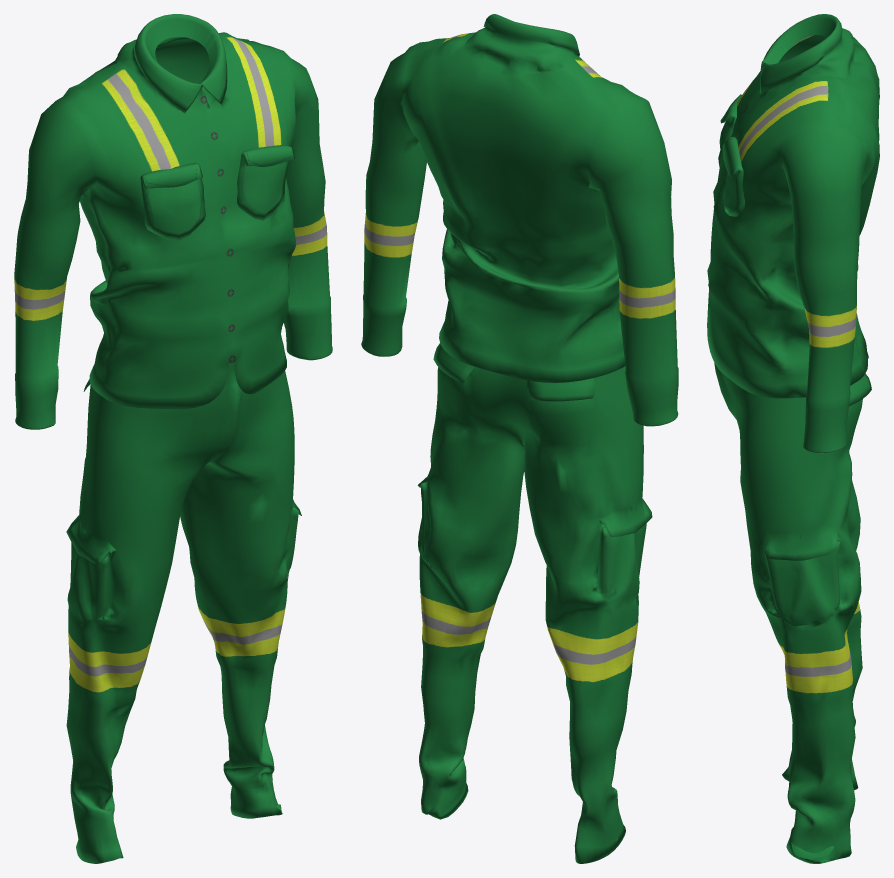
The model's file is seragam.fbx.
3 views of the same model, side by side, from view 1: azimuth 30°, elevation 25°; view 2: azimuth 150°, elevation 25°; view 3: azimuth 270°, elevation 25° (orthographic). The views are drawn at different scales.
Parts seen in each view (by area): view 1: Ch17_Shirt, Ch17_Pants; view 2: Ch17_Shirt, Ch17_Pants; view 3: Ch17_Shirt, Ch17_Pants.
Part boxes in pixels (x1,y1,x2,y2): Ch17_Shirt: [14, 14, 332, 429]; Ch17_Pants: [66, 362, 301, 863]; Ch17_Shirt: [361, 14, 678, 426]; Ch17_Pants: [418, 343, 652, 863]; Ch17_Shirt: [707, 14, 879, 453]; Ch17_Pants: [714, 351, 871, 863].
Size of the model in its own units: 70.9 by 178 by 34.77.
Materials: 2 (2 with a texture image).
